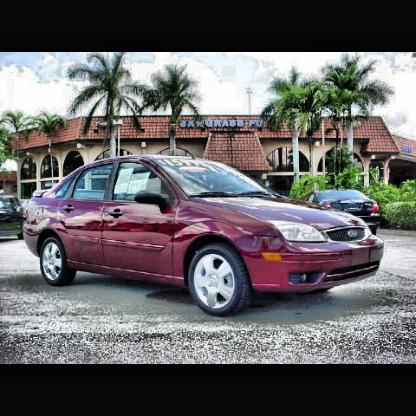Ford Focus Sedan 2007: (24, 155, 387, 317)
